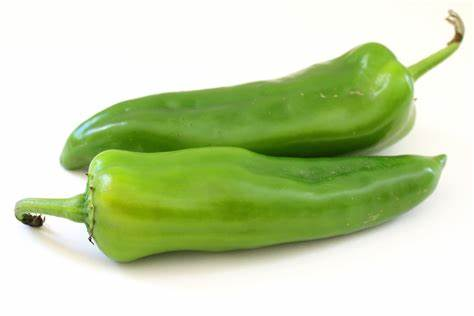Chili: (15, 116, 461, 272), (48, 24, 470, 179)
